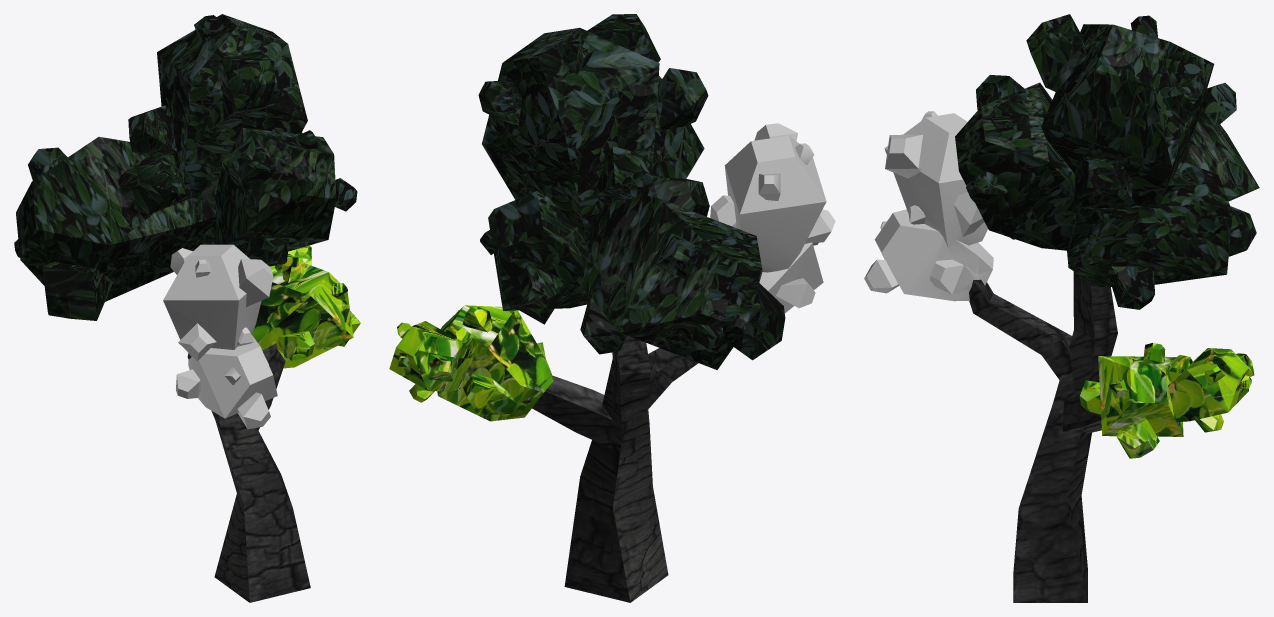
File: tree.obj
The picture shows the model from 3 angles, left to right: view 1: azimuth 30°, elevation 25°; view 2: azimuth 150°, elevation 25°; view 3: azimuth 270°, elevation 25°; orthographic projection. The views are drawn at different scales.
Parts seen in each view (by area): view 1: Tree, leaves_2, tree, leaves; view 2: Tree, tree, leaves_2, leaves; view 3: Tree, tree, leaves_2, leaves.
Part boxes in pixels (x1=…): Tree: x1=14, y1=14, x2=357, y2=320; leaves_2: x1=163, y1=244, x2=277, y2=429; tree: x1=187, y1=343, x2=310, y2=602; leaves: x1=251, y1=245, x2=360, y2=368; Tree: x1=478, y1=14, x2=785, y2=369; tree: x1=532, y1=335, x2=698, y2=602; leaves_2: x1=710, y1=123, x2=835, y2=313; leaves: x1=389, y1=305, x2=553, y2=421; Tree: x1=955, y1=14, x2=1259, y2=309; tree: x1=969, y1=271, x2=1117, y2=602; leaves_2: x1=864, y1=111, x2=993, y2=301; leaves: x1=1080, y1=343, x2=1254, y2=458.
Bounding box in the file's own units: 10.59 × 16.73 × 10.6.
